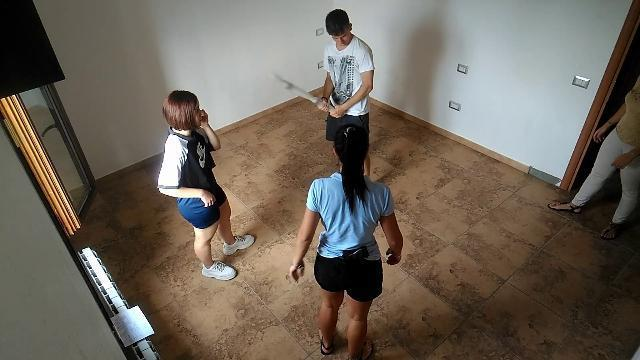non-violence: (289, 122, 405, 360), (154, 89, 256, 280), (547, 76, 640, 239)
violence: (273, 9, 375, 187)
